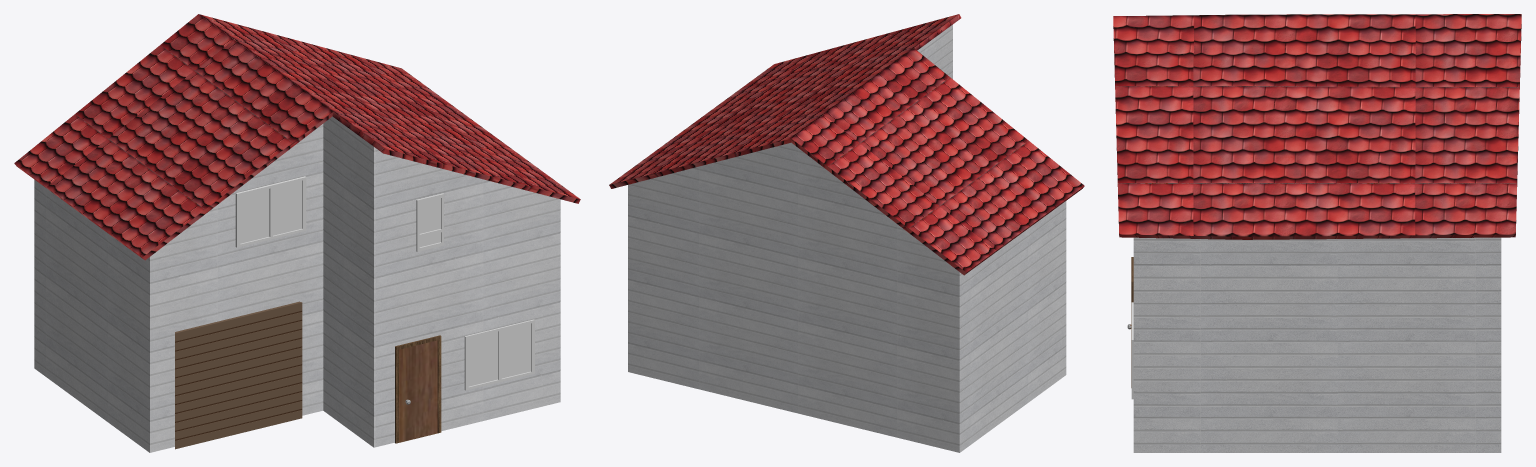
Rendered from HOUSE_01.fbx.
3 renders of one model, left to right at view 1: azimuth 30°, elevation 25°; view 2: azimuth 150°, elevation 25°; view 3: azimuth 270°, elevation 25°, orthographic. The views are drawn at different scales.
Parts seen in each view (by area): view 1: HOUSE_01; view 2: HOUSE_01; view 3: HOUSE_01.
Boxes of the visible parts, left/top/right/bottom form: HOUSE_01: left=14, top=14, right=580, bottom=452; HOUSE_01: left=609, top=14, right=1084, bottom=452; HOUSE_01: left=1113, top=14, right=1521, bottom=452.
Bounding box in the file's own units: 917 × 693 × 756.
